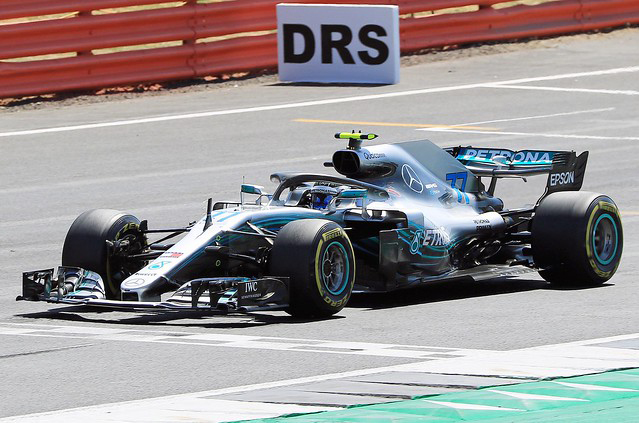F1 Car: (18, 128, 626, 323)
